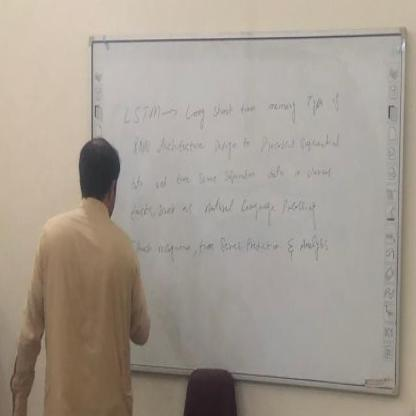Handwritten text: (119, 82, 345, 125), (124, 127, 342, 162), (129, 160, 341, 195), (121, 193, 332, 228), (128, 229, 338, 263)
Lecturer: (22, 126, 157, 409)
Whiteboard: (81, 22, 406, 402)
